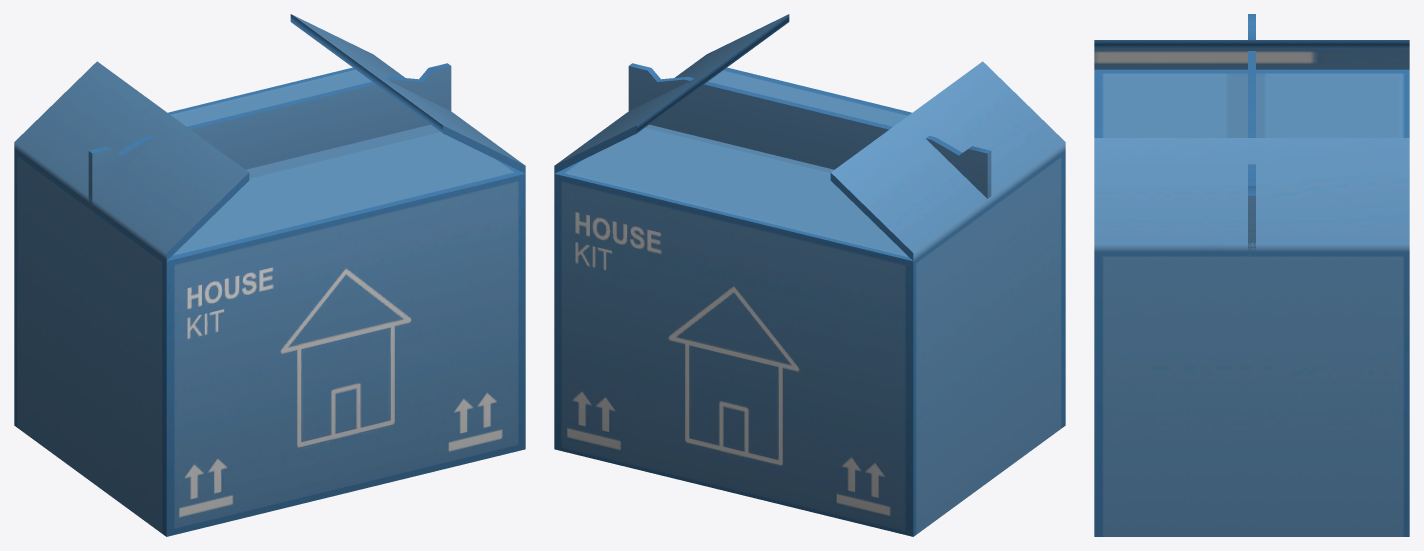
File: HouseCustomisationKit.fbx
The picture shows the model from 3 angles, left to right: view 1: azimuth 30°, elevation 25°; view 2: azimuth 150°, elevation 25°; view 3: azimuth 270°, elevation 25°; orthographic projection. The views are drawn at different scales.
Parts seen in each view (by area): view 1: VehicleBox; view 2: VehicleBox; view 3: VehicleBox.
Boxes of the visible parts, bbox=[...] form: VehicleBox: bbox=[14, 14, 525, 536]; VehicleBox: bbox=[554, 14, 1065, 536]; VehicleBox: bbox=[1094, 14, 1409, 536].
Bounding box in the file's own units: 0.8143 × 0.7462 × 0.5974.
